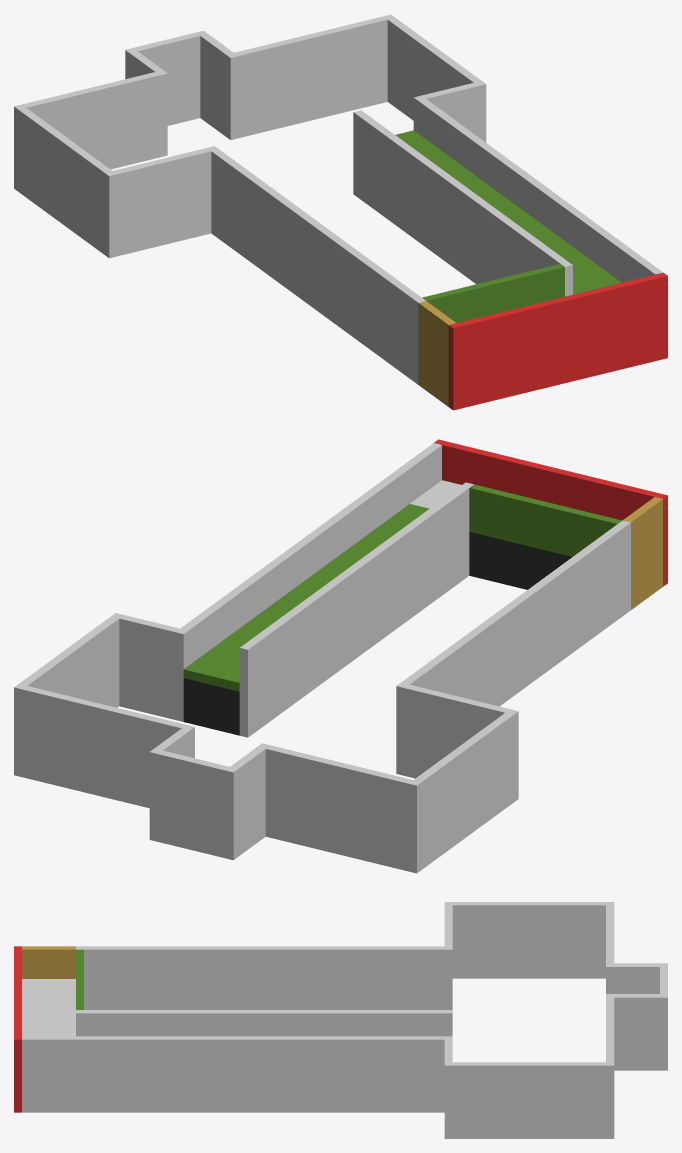
Rendered from Electricity_Puzzle_Model.fbx.
3 views of the same model, one above another, from view 1: azimuth 30°, elevation 25°; view 2: azimuth 150°, elevation 25°; view 3: azimuth 270°, elevation 25° (orthographic). The views are drawn at different scales.
Parts seen in each view (by area): view 1: Cube__13_, Cube__19_, Cube__14_, Cube, Cube__15_, Cube__6_, Cube__4_, Cube__7_, Cube__5_, Cube__17_, Cube__18_, Cube__1_ (+4 smaller); view 2: Cube__14_, Cube__19_, Cube__4_, Cube, Cube__15_, Cube__6_, Cube__1_, Cube__13_, Cube__18_, Cube__17_, Cube__7_, Cube__5_ (+8 smaller); view 3: Cube__15_, Cube__19_, Cube__5_, Cube__6_, Cube__14_, Cube__2_, Cube__16_, Cube__21_, Cube__3_, Cube__13_, Cube, Cube__1_ (+3 smaller).
Part boxes in pixels (left/top/right/bottom): Cube__13_: left=448, top=272, right=667, bottom=410; Cube__19_: left=207, top=146, right=425, bottom=384; Cube__14_: left=353, top=110, right=572, bottom=296; Cube: left=234, top=14, right=395, bottom=137; Cube__15_: left=413, top=95, right=662, bottom=282; Cube__6_: left=18, top=108, right=116, bottom=258; Cube__4_: left=14, top=71, right=160, bottom=191; Cube__7_: left=113, top=148, right=211, bottom=256; Cube__5_: left=387, top=18, right=486, bottom=142; Cube__17_: left=395, top=130, right=621, bottom=294; Cube__18_: left=422, top=264, right=564, bottom=322; Cube__1_: left=125, top=30, right=207, bottom=125; Cube__14_: left=239, top=482, right=473, bottom=737; Cube__19_: left=396, top=520, right=630, bottom=775; Cube__4_: left=265, top=745, right=421, bottom=873; Cube: left=14, top=684, right=186, bottom=808; Cube__15_: left=175, top=443, right=441, bottom=721; Cube__6_: left=414, top=709, right=518, bottom=869; Cube__1_: left=149, top=748, right=238, bottom=860; Cube__13_: left=434, top=439, right=667, bottom=586; Cube__18_: left=469, top=484, right=621, bottom=556; Cube__17_: left=183, top=504, right=429, bottom=691; Cube__7_: left=404, top=684, right=509, bottom=778; Cube__5_: left=19, top=613, right=123, bottom=707; Cube__15_: left=22, top=1036, right=452, bottom=1112; Cube__19_: left=76, top=946, right=452, bottom=1009; Cube__5_: left=444, top=1062, right=605, bottom=1138; Cube__6_: left=444, top=902, right=605, bottom=978; Cube__14_: left=76, top=1010, right=452, bottom=1036; Cube__2_: left=606, top=994, right=659, bottom=1070; Cube__16_: left=22, top=979, right=75, bottom=1036; Cube__21_: left=22, top=946, right=75, bottom=978; Cube__3_: left=606, top=963, right=659, bottom=993; Cube__13_: left=14, top=946, right=21, bottom=1112; Cube: left=606, top=997, right=614, bottom=1138; Cube__1_: left=660, top=963, right=667, bottom=1070.
Bounding box in the file's own units: 1440 × 300 × 2430.
